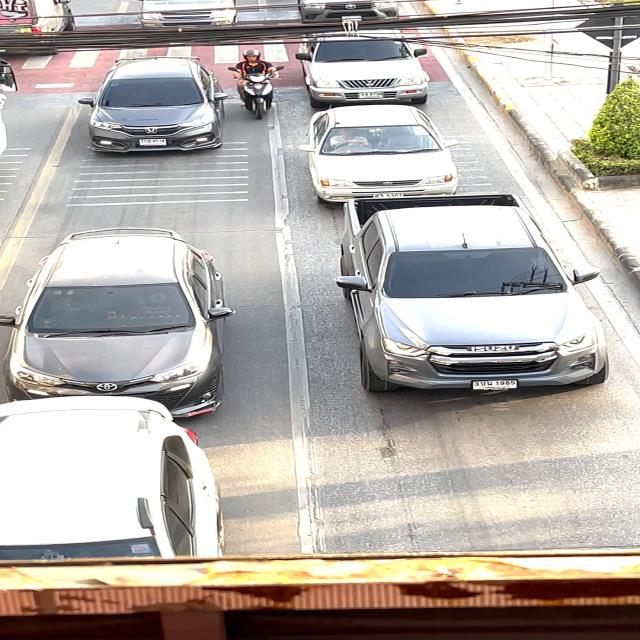car: (335, 192, 622, 402), (0, 222, 246, 420), (0, 405, 239, 561), (75, 50, 234, 158), (295, 102, 456, 201), (294, 26, 442, 104), (127, 0, 244, 32), (286, 0, 409, 26)
